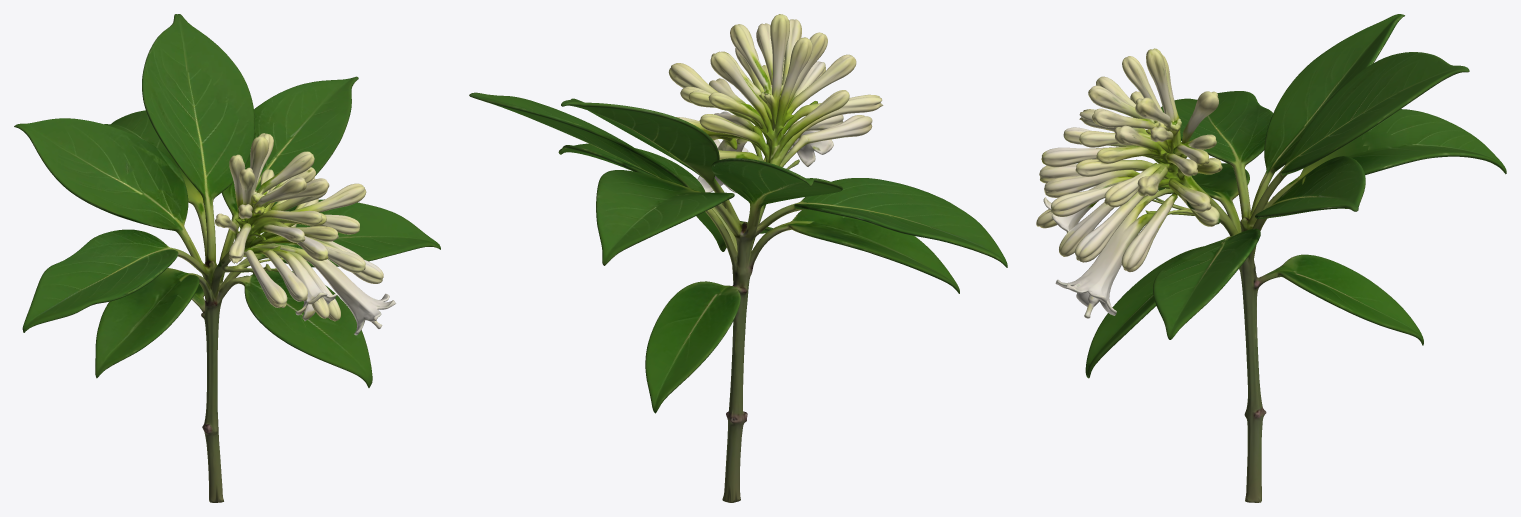
File: yelaixiang.glb
3 views of the same model, side by side, from view 1: azimuth 30°, elevation 25°; view 2: azimuth 150°, elevation 25°; view 3: azimuth 270°, elevation 25° (orthographic). The views are drawn at different scales.
Parts seen in each view (by area): view 1: node_0; view 2: node_0; view 3: node_0.
Boxes of the visible parts, <box> form: node_0: <box>14,14,440,502</box>; node_0: <box>469,14,1007,502</box>; node_0: <box>1036,14,1506,502</box>.
Bounding box in the file's own units: 0.9614 × 0.9162 × 0.8453.
Materials: 1 (1 with a texture image).
